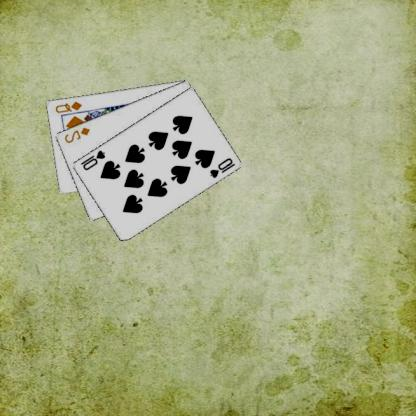10S: (209, 154, 238, 180), (80, 148, 108, 172)
2D: (63, 125, 93, 144)
QD: (54, 98, 85, 114)
